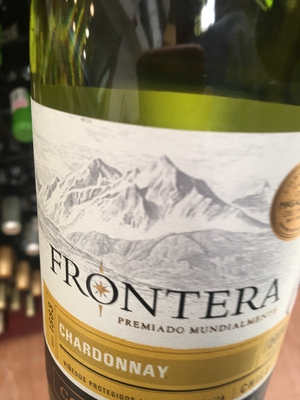frontera chardonnay: (29, 13, 297, 400)
